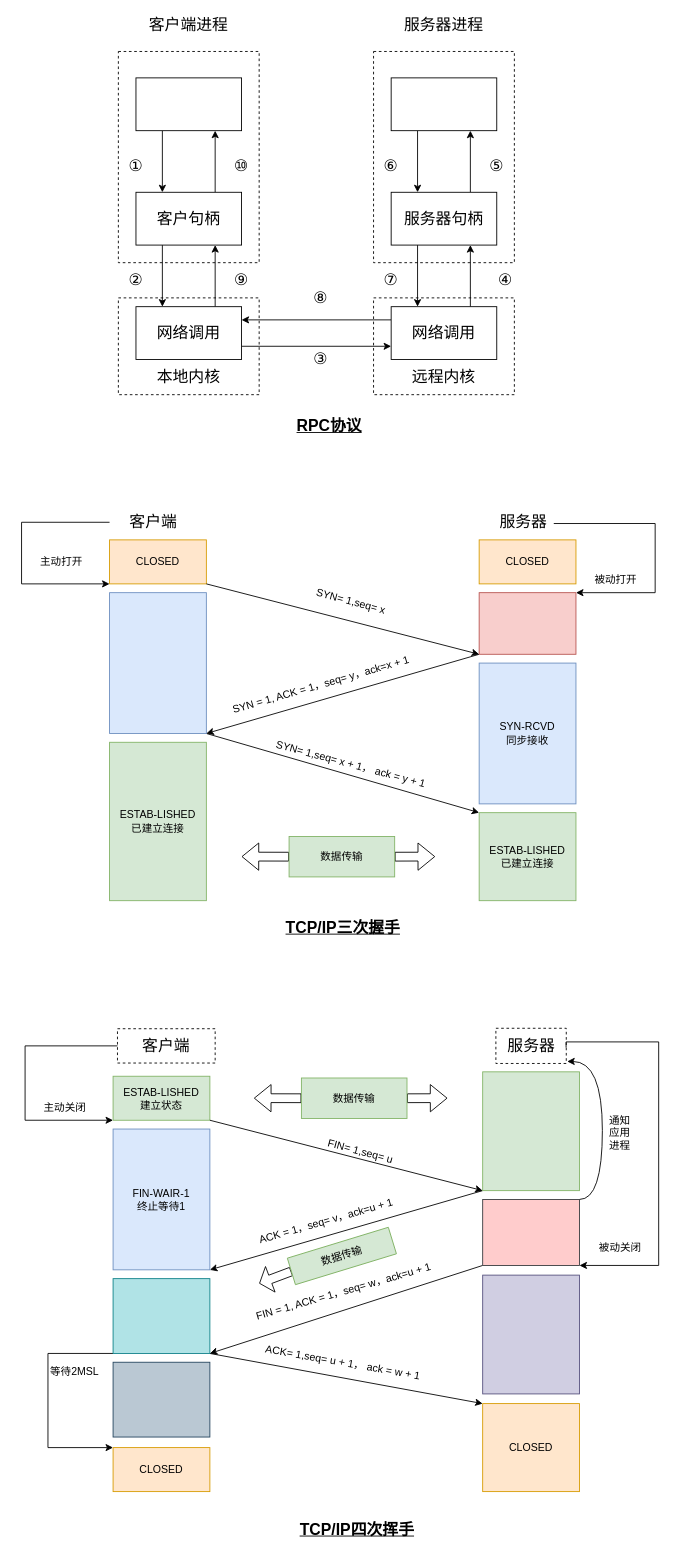
This 681x1557 diagram has some shape labels left out. The shapes that lost their labels are listed below. From the top down, each one's centre as x and y in pixels, then its label:
At [188,104]: "客户函数".
At [443,104]: "服务器函数".
At [527,623]: "LISTEN 监听".
At [157,662]: "SYN-SENT 同步已发送".
At [530,1131]: "ESTAB-LISHED".
At [530,1232]: "CLOSE-WAIT 关闭等待".
At [161,1315]: "FIN-WAIR-2 终止等待2".
At [530,1334]: "LAST-ACK 最后确认".
At [161,1399]: "TIME-WAIT 时间等待".
